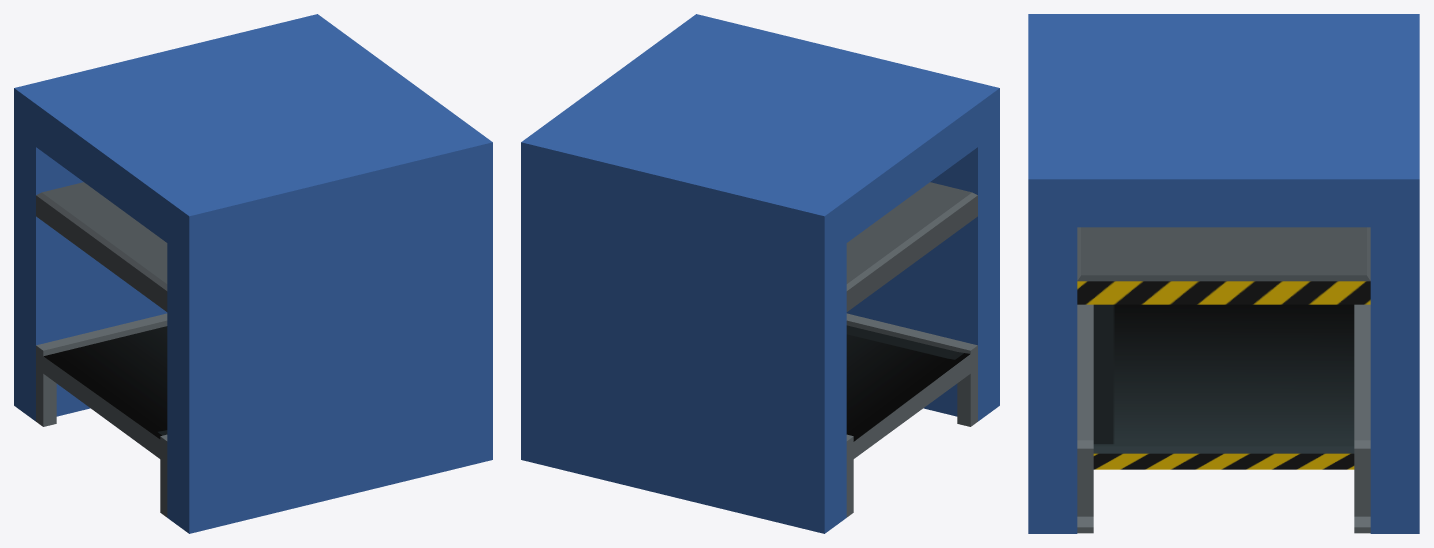
File: Presse.fbx
3 views of the same model, side by side, from view 1: azimuth 30°, elevation 25°; view 2: azimuth 150°, elevation 25°; view 3: azimuth 270°, elevation 25° (orthographic). The views are drawn at different scales.
Parts seen in each view (by area): view 1: Cube.002, Cylinder.004; view 2: Cube.002, Cylinder.004; view 3: Cube.002, Cylinder.004.
Boxes of the visible parts, <box> form: Cube.002: <box>14,14,492,533</box>; Cylinder.004: <box>36,182,167,311</box>; Cube.002: <box>521,14,999,533</box>; Cylinder.004: <box>846,182,977,311</box>; Cube.002: <box>1028,14,1419,533</box>; Cylinder.004: <box>1077,227,1370,304</box>.
Size of the model in its own units: 100 by 100 by 100.
